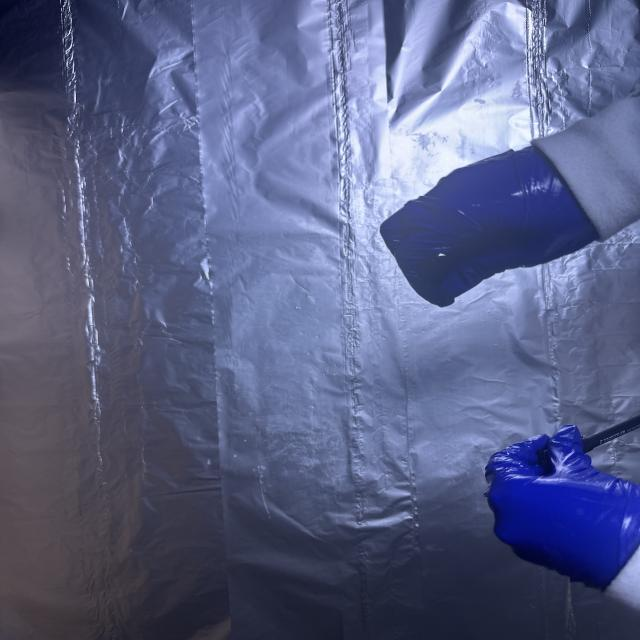gloves_contaminated: (381, 147, 596, 306), (486, 426, 640, 590)
